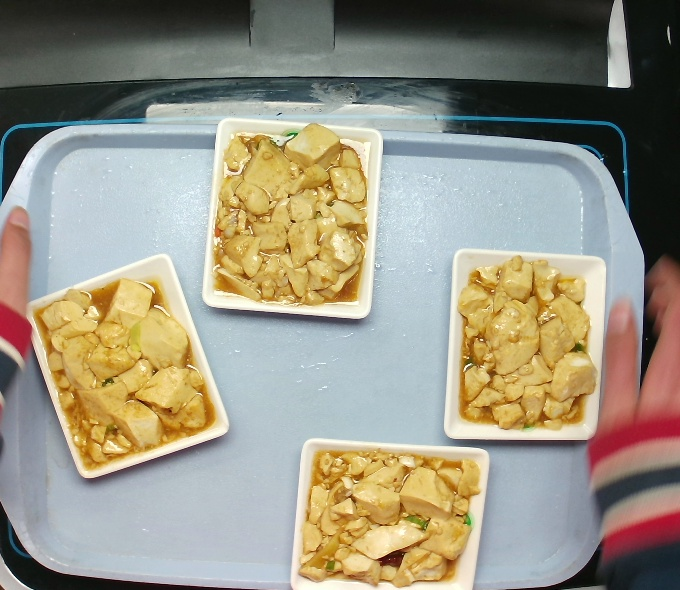wcq-DouFu: (211, 121, 369, 314), (37, 281, 200, 458), (457, 257, 599, 437), (302, 449, 470, 579)
